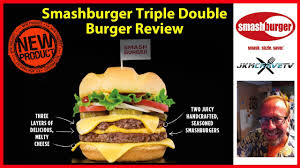hamburger: (75, 65, 173, 161)
